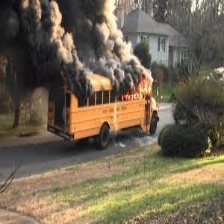smoke: (1, 1, 157, 90)
